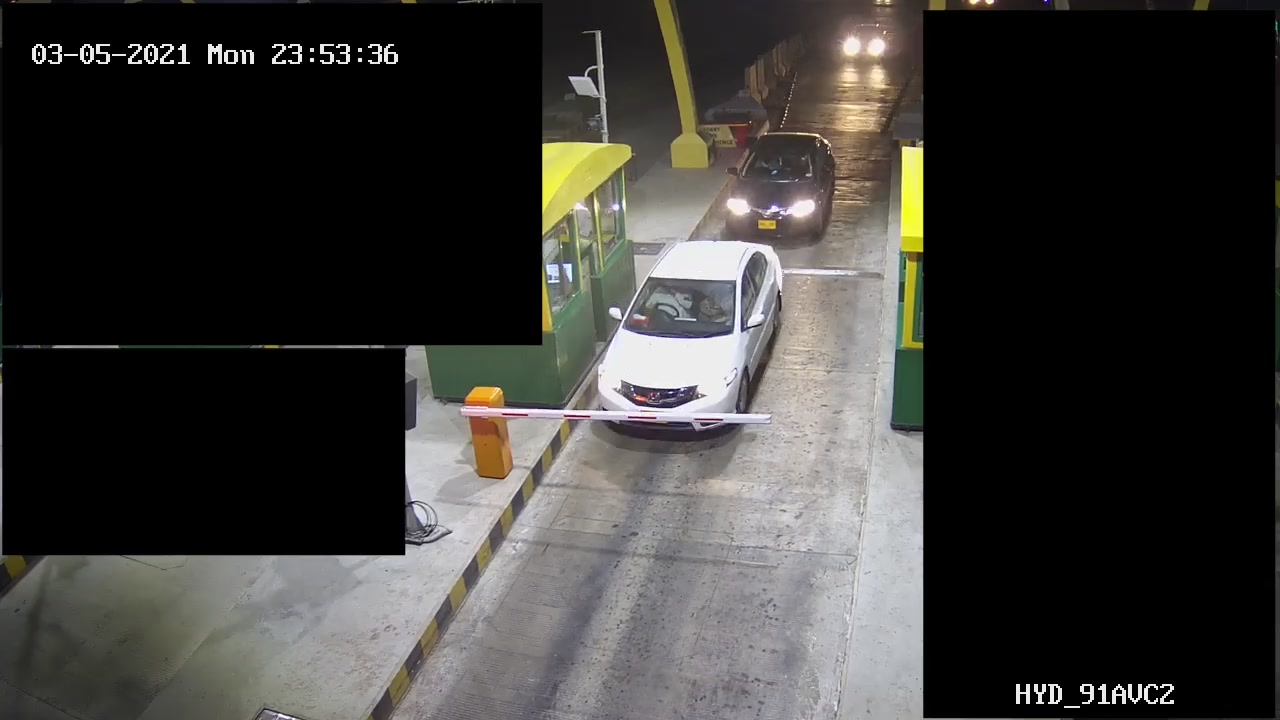F1: (593, 243, 802, 445), (718, 127, 844, 240)
